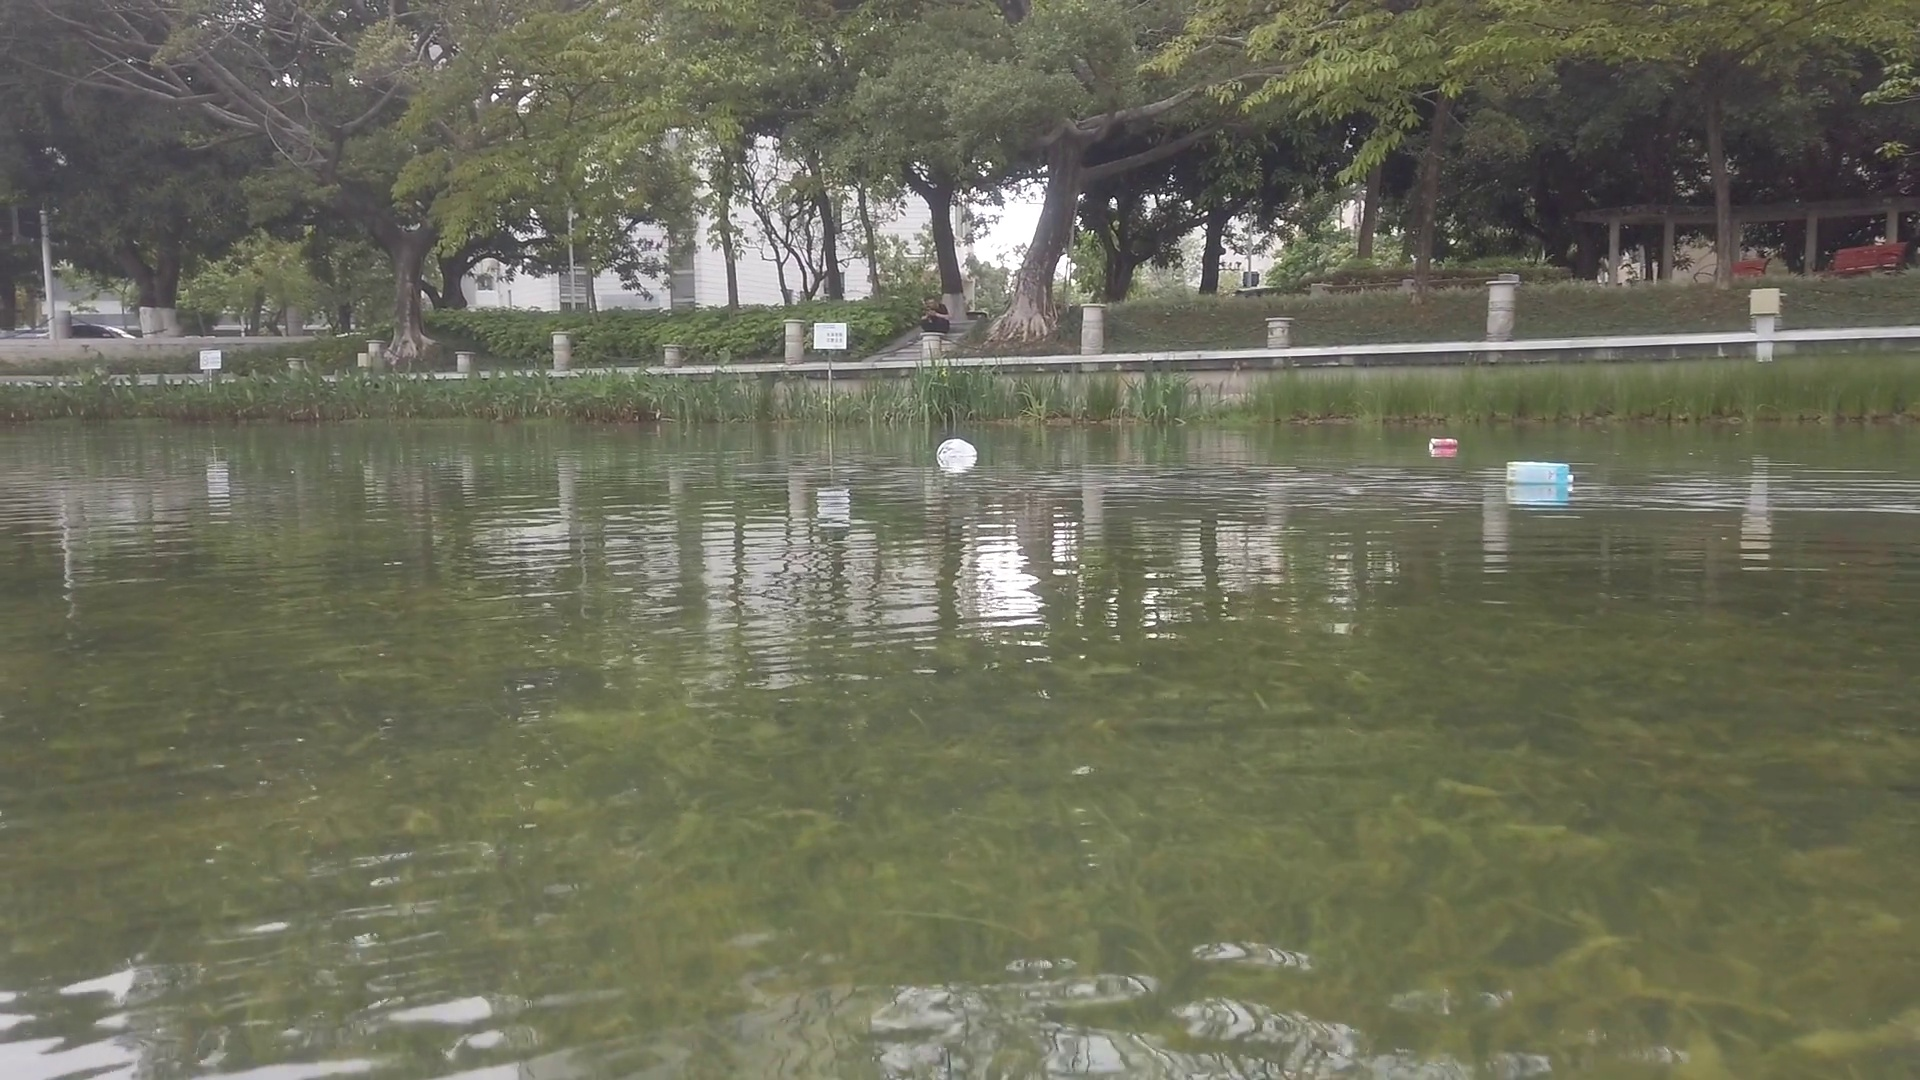bottle: (1431, 438, 1458, 448)
carton: (1507, 459, 1575, 484)
plastic: (935, 439, 981, 459)
